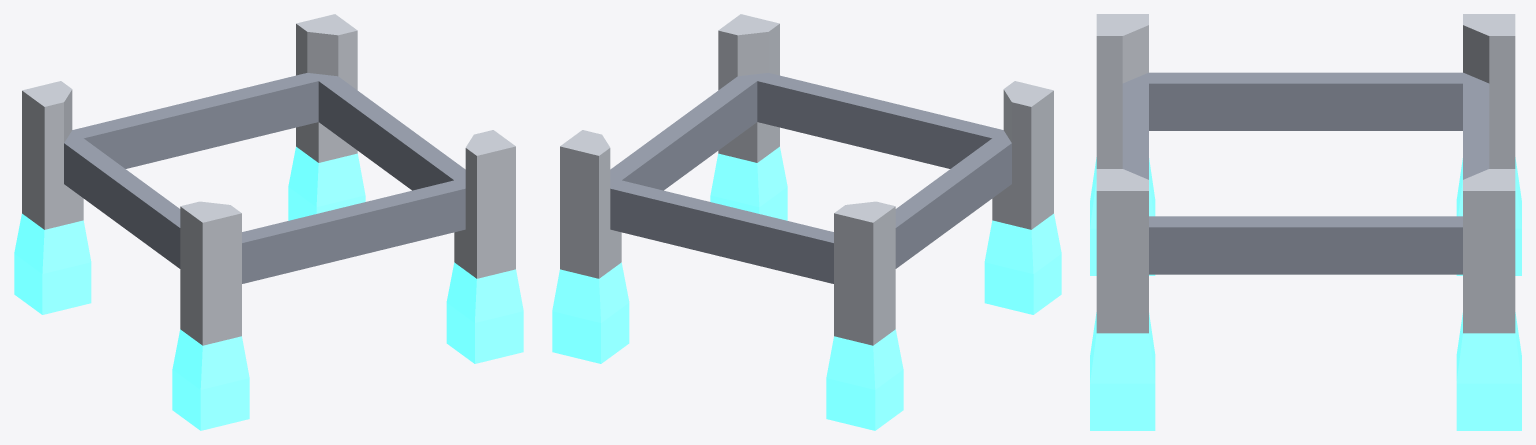
File: supports_low.glb
3 views of the same model, side by side, from view 1: azimuth 30°, elevation 25°; view 2: azimuth 150°, elevation 25°; view 3: azimuth 270°, elevation 25° (orthographic). The views are drawn at different scales.
Parts seen in each view (by area): view 1: supports_low; view 2: supports_low; view 3: supports_low.
Boxes of the visible parts, left/top/right/bottom form: supports_low: left=14, top=14, right=523, bottom=430; supports_low: left=552, top=14, right=1061, bottom=430; supports_low: left=1090, top=14, right=1521, bottom=430.
Bounding box in the file's own units: 0.825 × 0.5 × 0.825.
